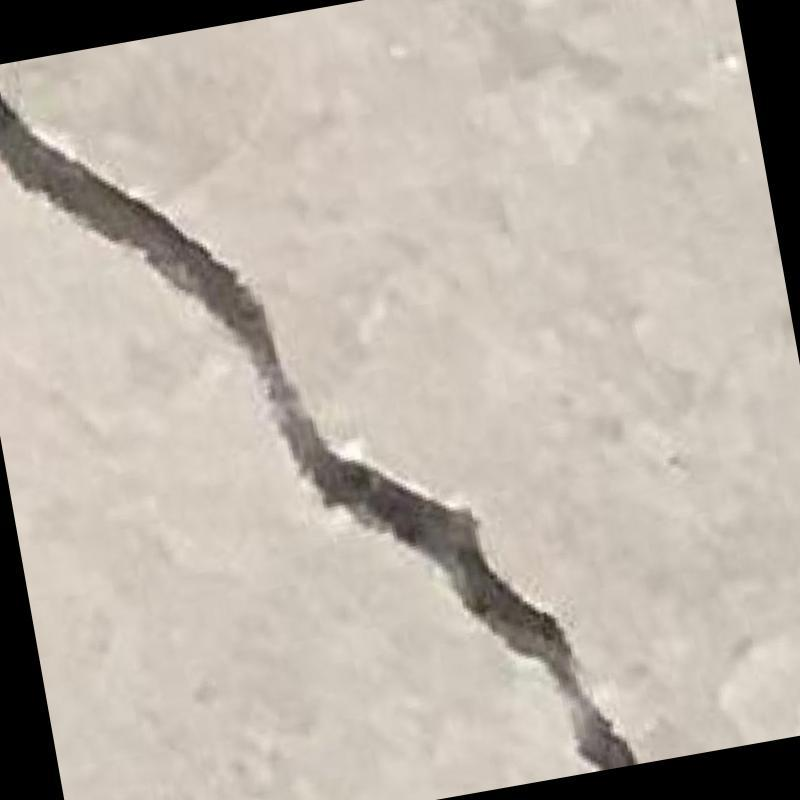crack: (0, 95, 638, 770)
